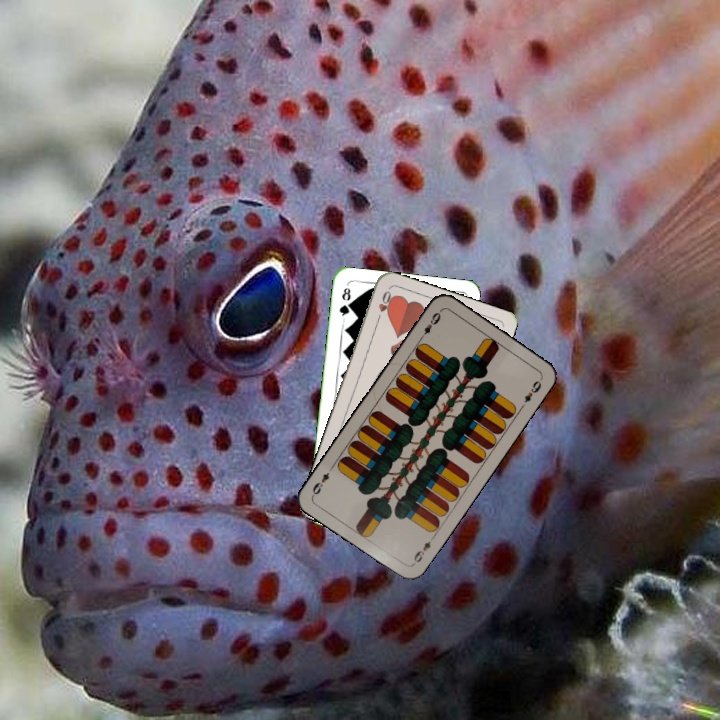E9: (409, 532, 437, 567), (416, 308, 443, 342)
G8: (335, 284, 353, 318)
HO: (372, 287, 394, 325)
